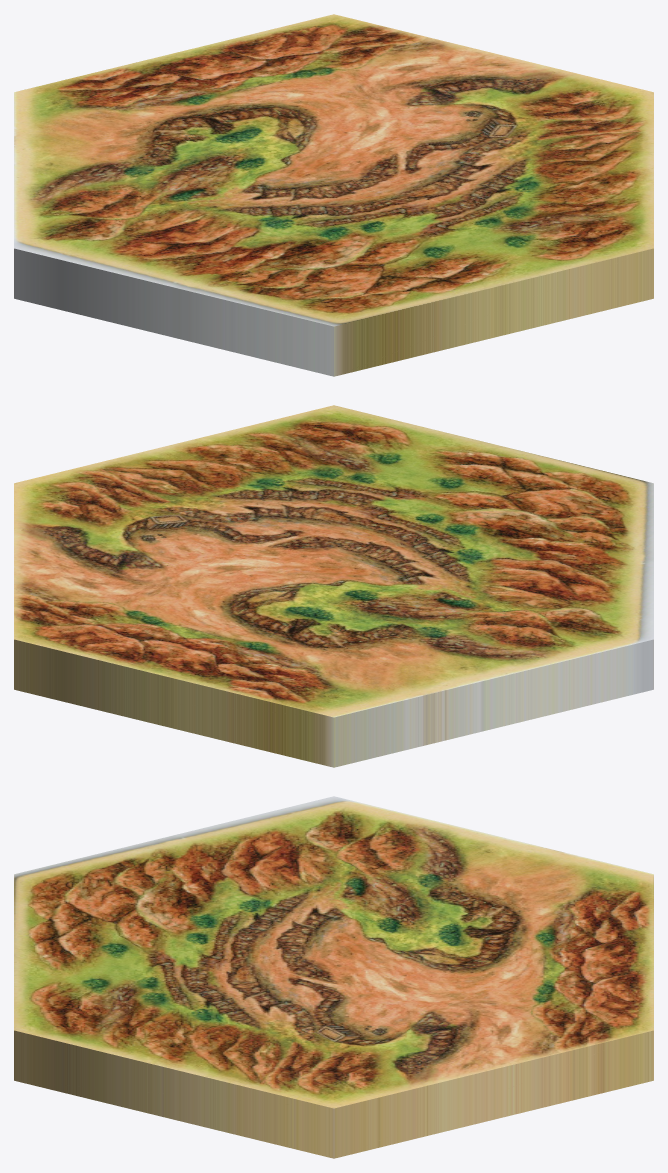
The model's file is brick.FBX.
The picture shows the model from 3 angles, top to bottom: view 1: azimuth 30°, elevation 25°; view 2: azimuth 150°, elevation 25°; view 3: azimuth 270°, elevation 25°; orthographic projection.
Visible parts, largest first — view 1: Desert; view 2: Desert; view 3: Desert.
Part boxes in pixels (x1,y1,x2,y2): Desert: (14, 14, 653, 376); Desert: (14, 405, 653, 767); Desert: (14, 796, 653, 1158).
Bounding box in the file's own units: 78.74 × 5.91 × 68.19.
Materials: 1 (1 with a texture image).
